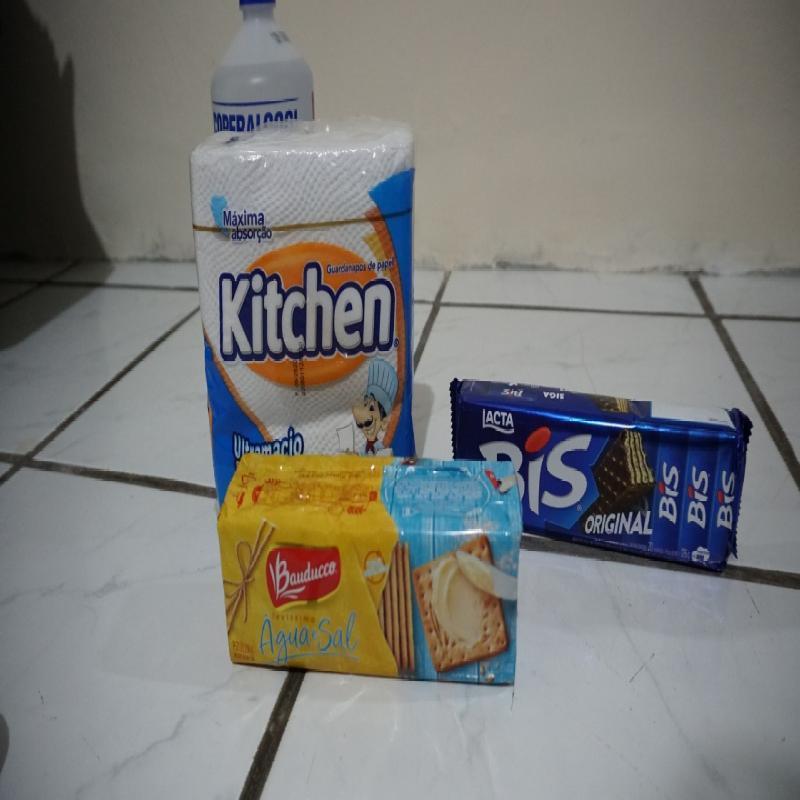Alcohol Bottle: (205, 3, 322, 115)
Cracker: (222, 455, 524, 696)
Napkin: (189, 129, 419, 443)
